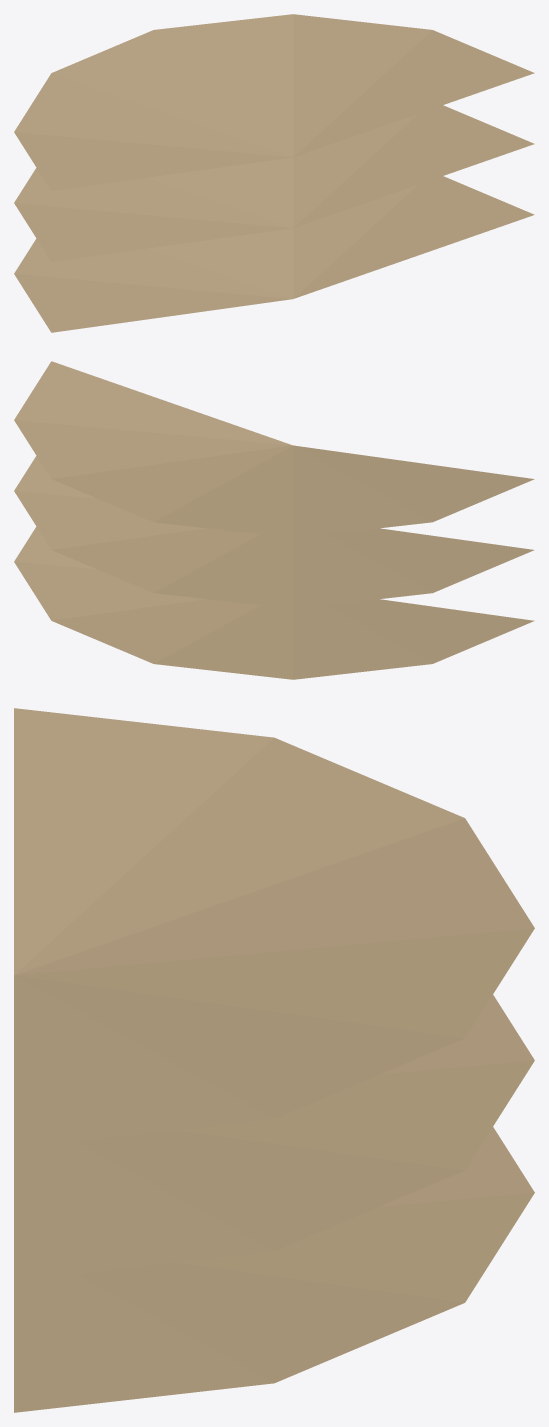
The model's file is shelf_fungus_lod1.glb.
3 views of the same model, one above another, from view 1: azimuth 30°, elevation 25°; view 2: azimuth 150°, elevation 25°; view 3: azimuth 270°, elevation 25° (orthographic). The views are drawn at different scales.
Visible parts, largest first — view 1: Leaves; view 2: Leaves; view 3: Leaves.
Boxes of the visible parts, x1=… form: Leaves: x1=14, y1=14, x2=534, y2=332; Leaves: x1=14, y1=361, x2=534, y2=679; Leaves: x1=14, y1=708, x2=534, y2=1412.
Bounding box in the file's own units: 1 × 0.33 × 0.5.
